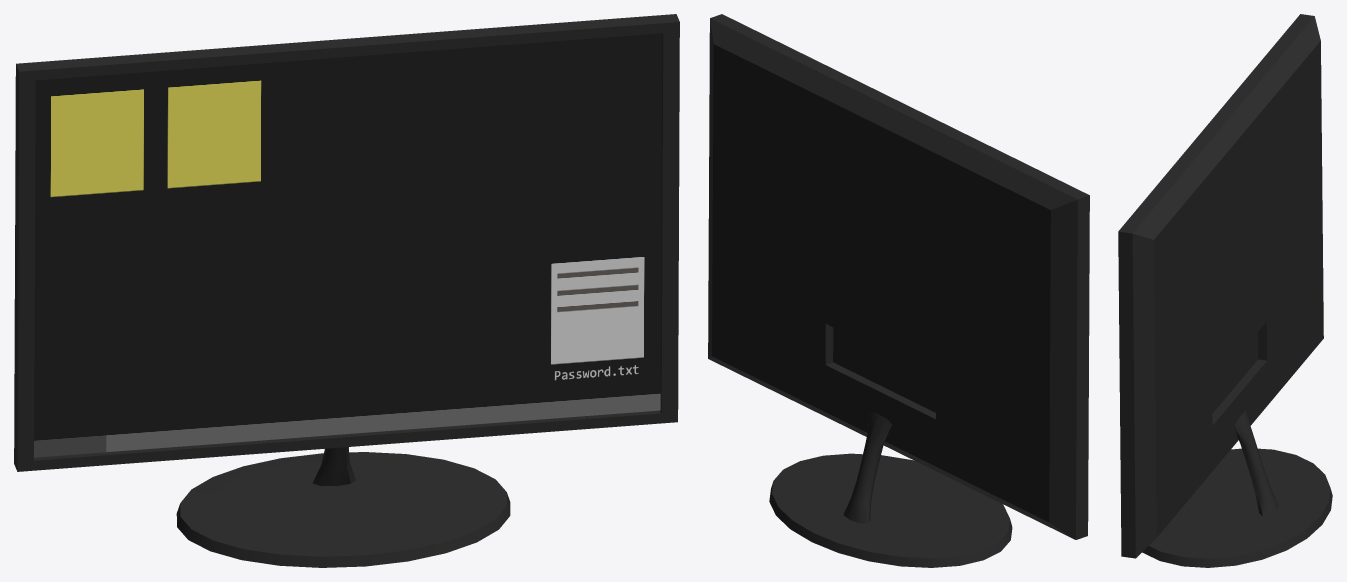
The model's file is FindPassword_interactable_L3_v5.gltf.
The picture shows the model from 3 angles, left to right: view 1: azimuth 30°, elevation 25°; view 2: azimuth 150°, elevation 25°; view 3: azimuth 270°, elevation 25°; orthographic projection. The views are drawn at different scales.
Visible parts, largest first — view 1: interactable_screen; view 2: interactable_screen; view 3: interactable_screen.
Boxes of the visible parts, left/top/right/bottom form: interactable_screen: left=14, top=14, right=679, bottom=567; interactable_screen: left=708, top=14, right=1089, bottom=567; interactable_screen: left=1118, top=14, right=1332, bottom=567.
Bounding box in the file's own units: 1.01 × 0.84 × 0.4209.
Materials: 2 (1 with a texture image).
